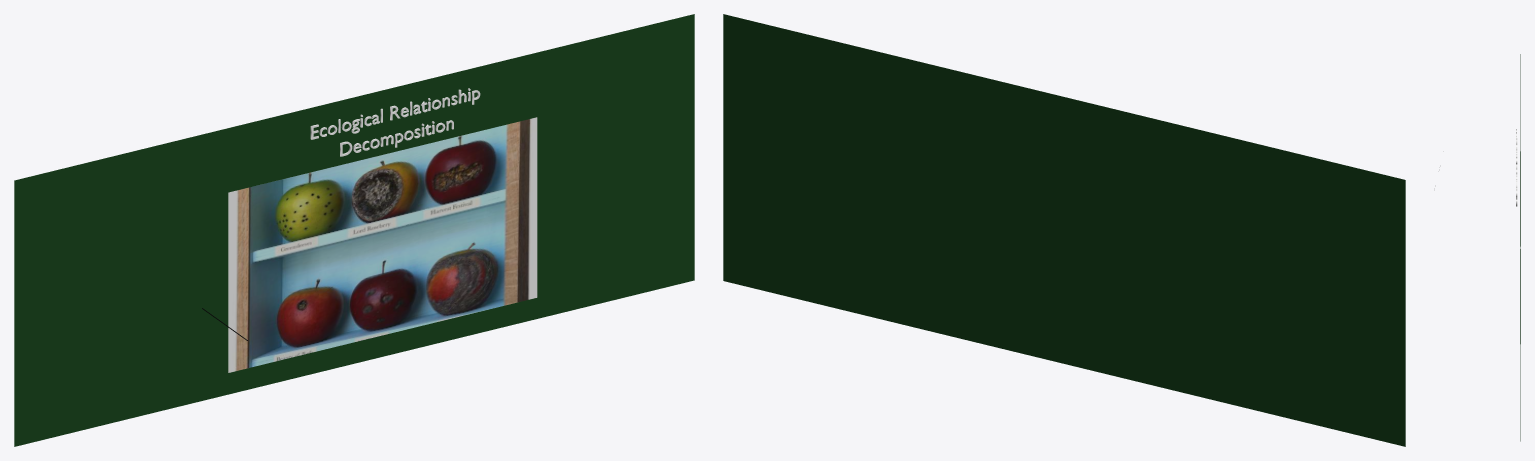
The model's file is decomposition.gltf.
3 views of the same model, side by side, from view 1: azimuth 30°, elevation 25°; view 2: azimuth 150°, elevation 25°; view 3: azimuth 270°, elevation 25° (orthographic). The views are drawn at different scales.
Visible parts, largest first — view 1: Plane.013, Plane, Text.008, Text.001; view 2: Plane.013; view 3: Plane.013, Text.008.
Boxes of the visible parts, x1,y1,x2,y2 form: Plane.013: (14,14,694,446); Plane: (228,117,537,372); Text.008: (310,88,480,139); Text.001: (340,120,453,156); Plane.013: (723,14,1405,446); Plane.013: (1520,54,1520,441); Text.008: (1516,129,1517,199).
Size of the model in its own units: 15.94 by 5.96 by 2.43.
Materials: 5 (1 with a texture image).
